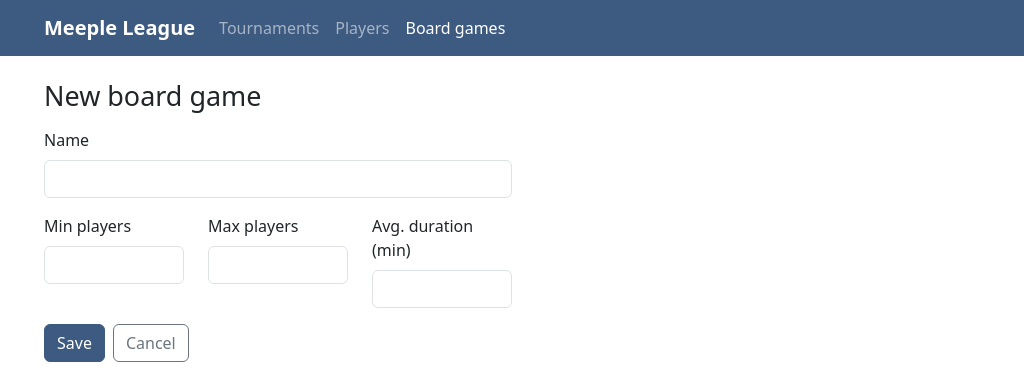
Test: board games › sends numbers, and null for an empty optional duration
Type "Azul" into the field labelled "Name" at (278, 179), box [44,160,512,198]
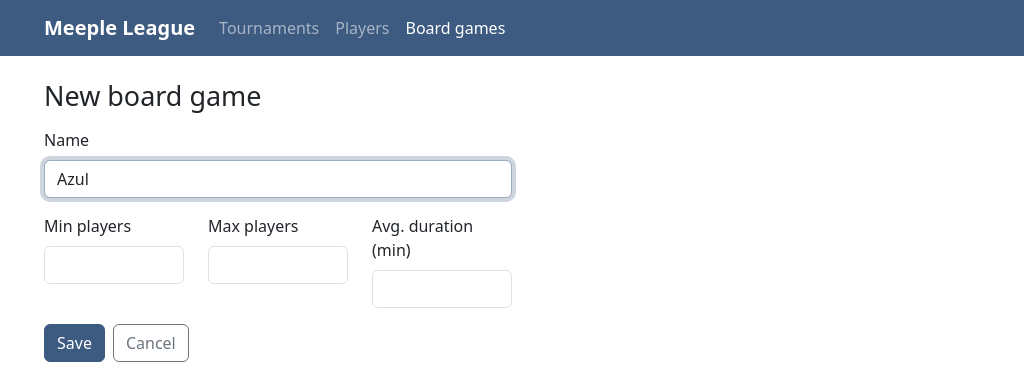
Type "2" into the number field labelled "Min players" at (114, 265), box [44,246,184,284]
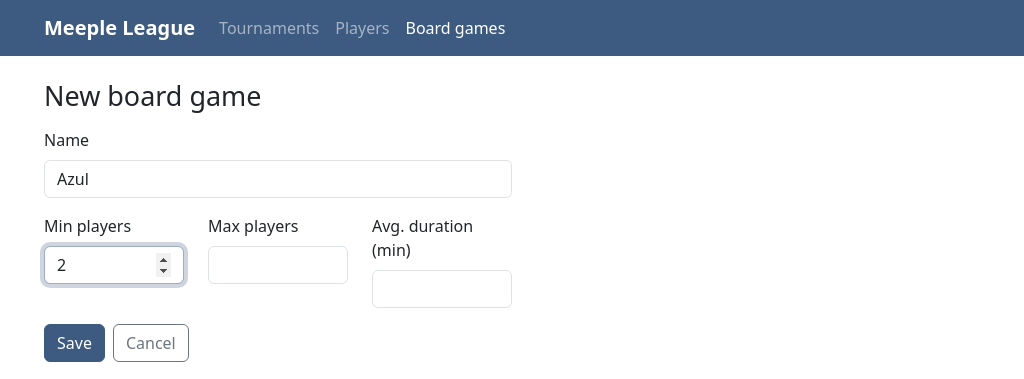
Type "4" into the number field labelled "Max players" at (278, 265), box [208,246,348,284]
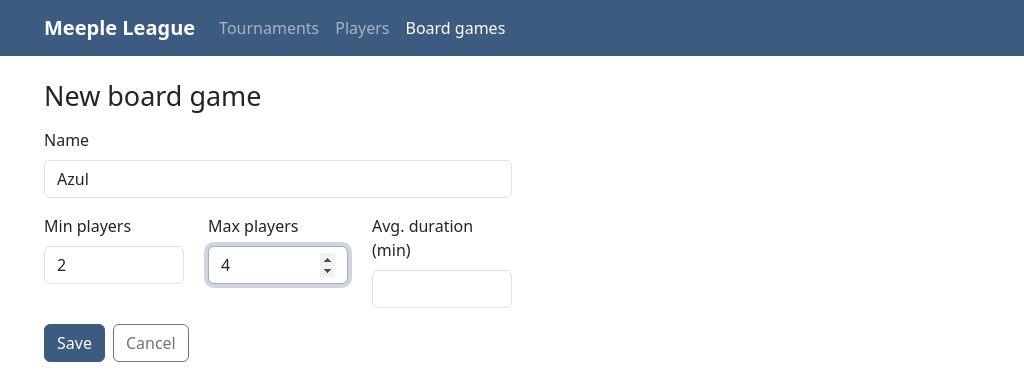
Click the button "Save" at (74, 343), box [44,324,105,362]
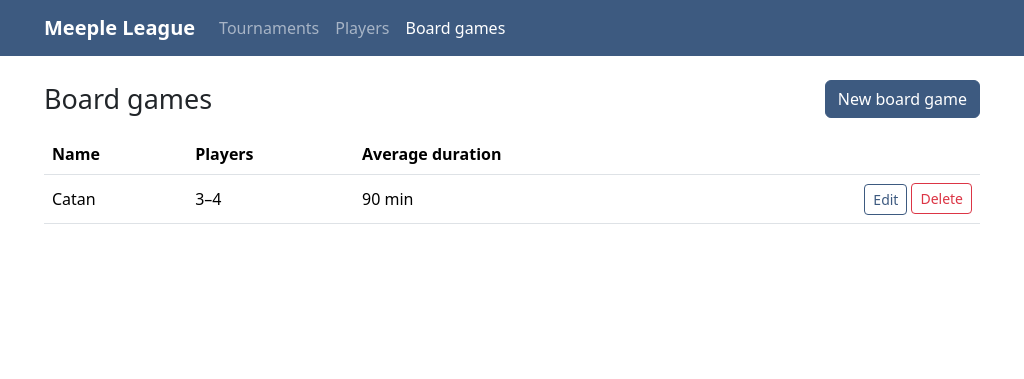
Now the heading "Board games" is shown, box [44,83,212,115]
